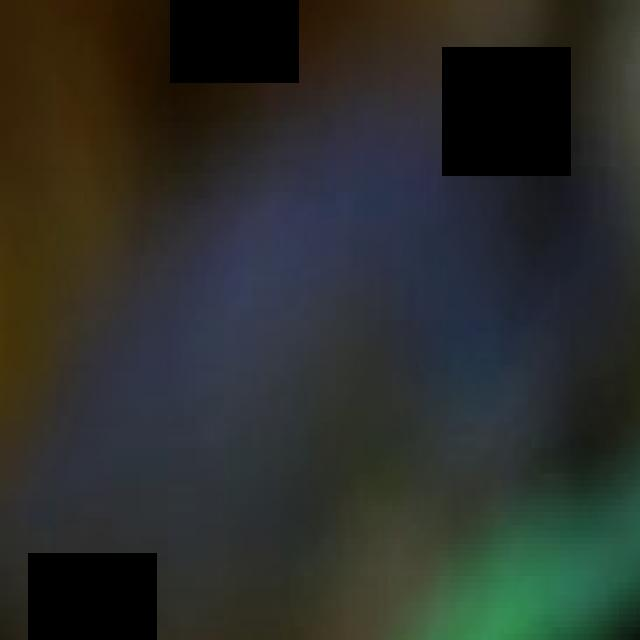fish: (3, 6, 640, 640)
